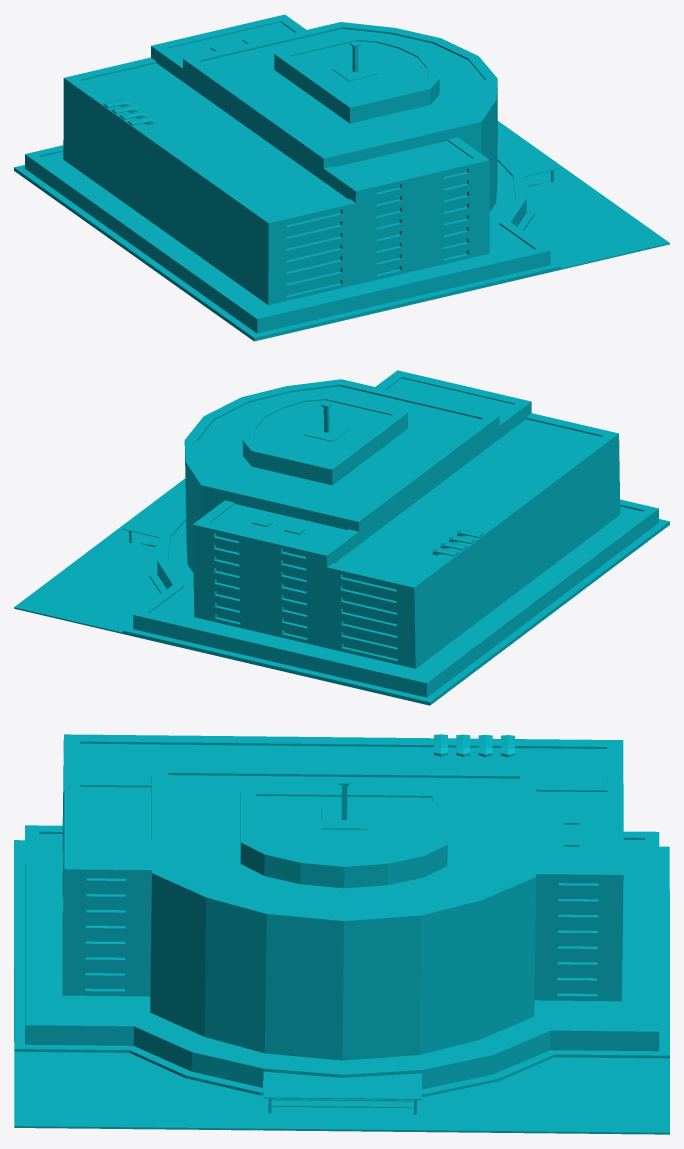
The model's file is shitang2.FBX.
3 views of the same model, one above another, from view 1: azimuth 30°, elevation 25°; view 2: azimuth 150°, elevation 25°; view 3: azimuth 270°, elevation 25° (orthographic). The views are drawn at different scales.
Visible parts, largest first — view 1: C区第二食堂; view 2: C区第二食堂; view 3: C区第二食堂.
Part boxes in pixels (x1,y1,x2,y2): C区第二食堂: [14, 14, 669, 341]; C区第二食堂: [14, 370, 669, 705]; C区第二食堂: [14, 734, 669, 1134].
Bounding box in the file's own units: 16.97 × 6.41 × 16.96.
